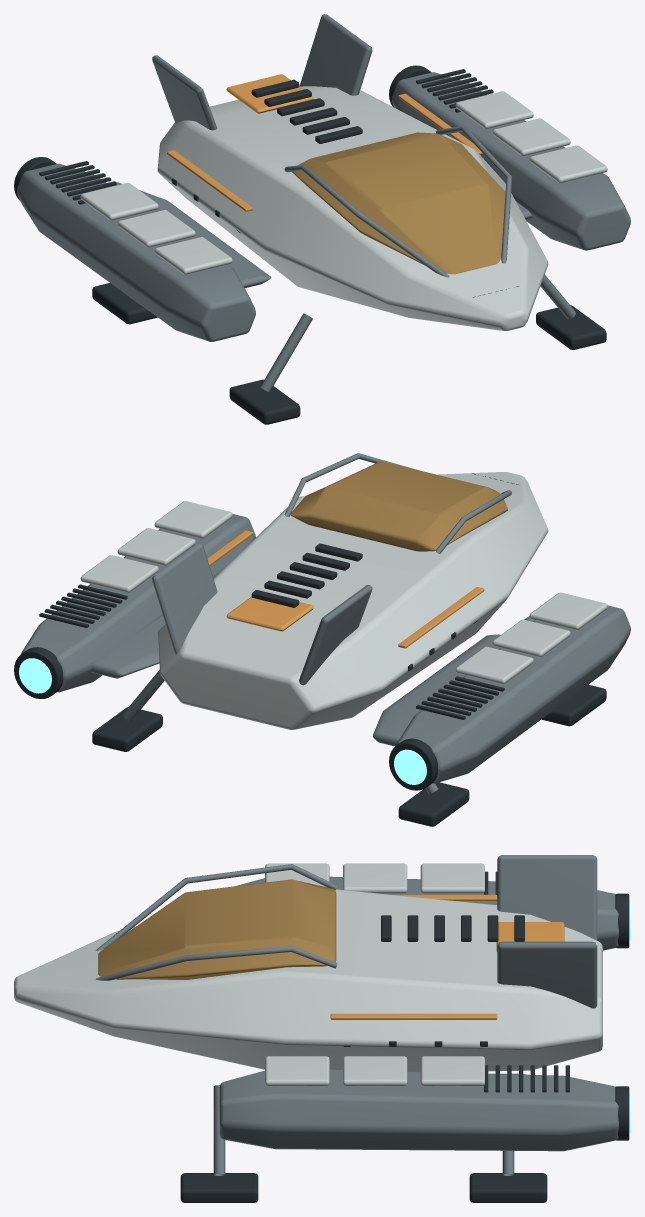
The model's file is skiff.glb.
3 renders of one model, top to bottom at view 1: azimuth 30°, elevation 25°; view 2: azimuth 150°, elevation 25°; view 3: azimuth 270°, elevation 25°, orthographic. The views are drawn at different scales.
Visible parts, largest first — view 1: Primary pressure hull, Panoramic canopy, Engine nacelle -1, Engine nacelle 1, Tail stabilizer.001, Tail stabilizer, Landing skid, Landing skid.002, Nacelle ceramic plates.003, Nacelle ceramic plates.001, Nacelle ceramic plates.002, Nacelle ceramic plates (+10 smaller); view 2: Primary pressure hull, Engine nacelle -1, Panoramic canopy, Engine nacelle 1, Tail stabilizer.001, Swept outrigger -1, Tail stabilizer, Swept outrigger 1, Landing skid.001, Landing skid.003, Nacelle ceramic plates.001, Nacelle ceramic plates.002 (+14 smaller); view 3: Primary pressure hull, Engine nacelle 1, Panoramic canopy, Tail stabilizer, Tail stabilizer.001, Landing skid.003, Landing skid.002, Engine nacelle -1, Nacelle ceramic plates.002, Nacelle ceramic plates.003, Nacelle ceramic plates.004, Nacelle ceramic plates.005 (+10 smaller).
Boxes of the visible parts, x1,y1,x2,y2 form: Primary pressure hull: (157, 86, 548, 330); Panoramic canopy: (292, 132, 505, 274); Engine nacelle -1: (17, 163, 255, 341); Engine nacelle 1: (392, 72, 630, 250); Tail stabilizer.001: (299, 14, 372, 95); Tail stabilizer: (152, 55, 217, 130); Landing skid: (229, 379, 300, 424); Landing skid.002: (536, 305, 606, 349); Nacelle ceramic plates.003: (529, 145, 607, 182); Nacelle ceramic plates.001: (117, 210, 195, 247); Nacelle ceramic plates.002: (80, 183, 158, 220); Nacelle ceramic plates: (154, 237, 232, 274); Primary pressure hull: (157, 472, 548, 729); Engine nacelle -1: (396, 605, 630, 783); Panoramic canopy: (290, 461, 507, 551); Engine nacelle 1: (21, 514, 255, 692); Tail stabilizer.001: (152, 543, 217, 654); Swept outrigger -1: (373, 634, 500, 746); Tail stabilizer: (299, 585, 372, 685); Swept outrigger 1: (91, 616, 165, 678); Landing skid.001: (398, 782, 469, 826); Landing skid.003: (92, 707, 162, 751); Nacelle ceramic plates.001: (492, 619, 570, 657); Nacelle ceramic plates.002: (455, 646, 533, 684); Primary pressure hull: (14, 889, 602, 1071); Engine nacelle 1: (219, 1069, 618, 1151); Panoramic canopy: (98, 879, 336, 979); Tail stabilizer: (497, 855, 597, 940); Tail stabilizer.001: (497, 941, 597, 1008); Landing skid.003: (469, 1173, 547, 1202); Landing skid.002: (180, 1173, 258, 1202); Engine nacelle -1: (235, 876, 618, 950); Nacelle ceramic plates.002: (420, 863, 484, 893); Nacelle ceramic plates.003: (265, 1056, 329, 1085); Nacelle ceramic plates.004: (343, 1056, 407, 1085); Nacelle ceramic plates.005: (420, 1056, 484, 1085).
Size of the model in its own units: 9.89 by 4.32 by 11.11.
